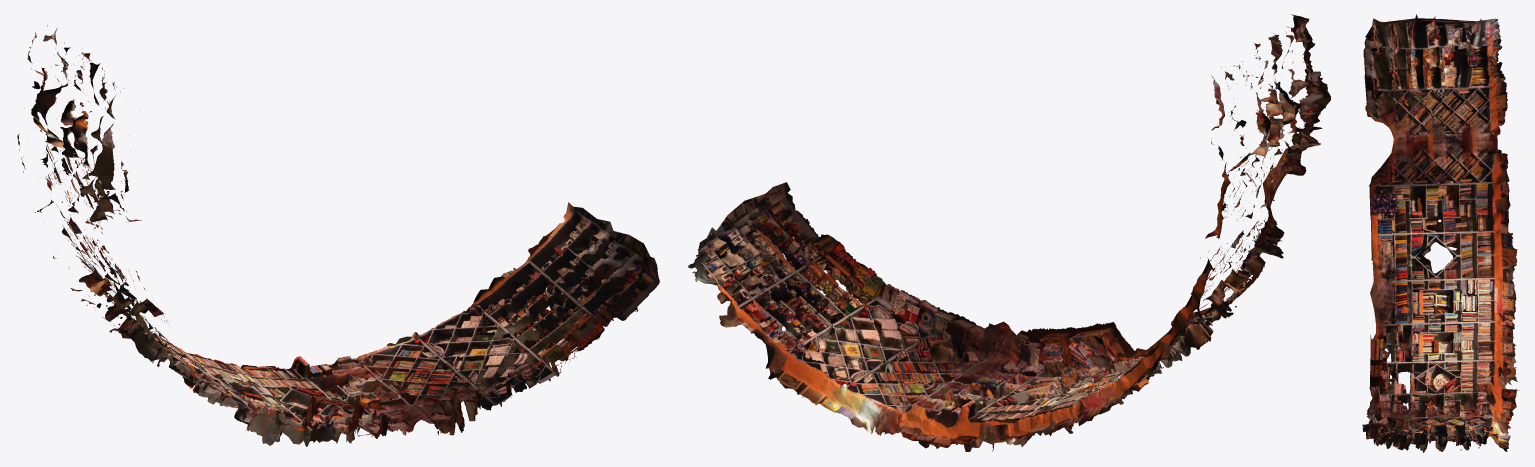
The model's file is kims.glb.
3 renders of one model, left to right at view 1: azimuth 30°, elevation 25°; view 2: azimuth 150°, elevation 25°; view 3: azimuth 270°, elevation 25°, orthographic. The views are drawn at different scales.
Size of the model in its own units: 45.42 by 33.86 by 15.82.
1 material, 1 textured.
